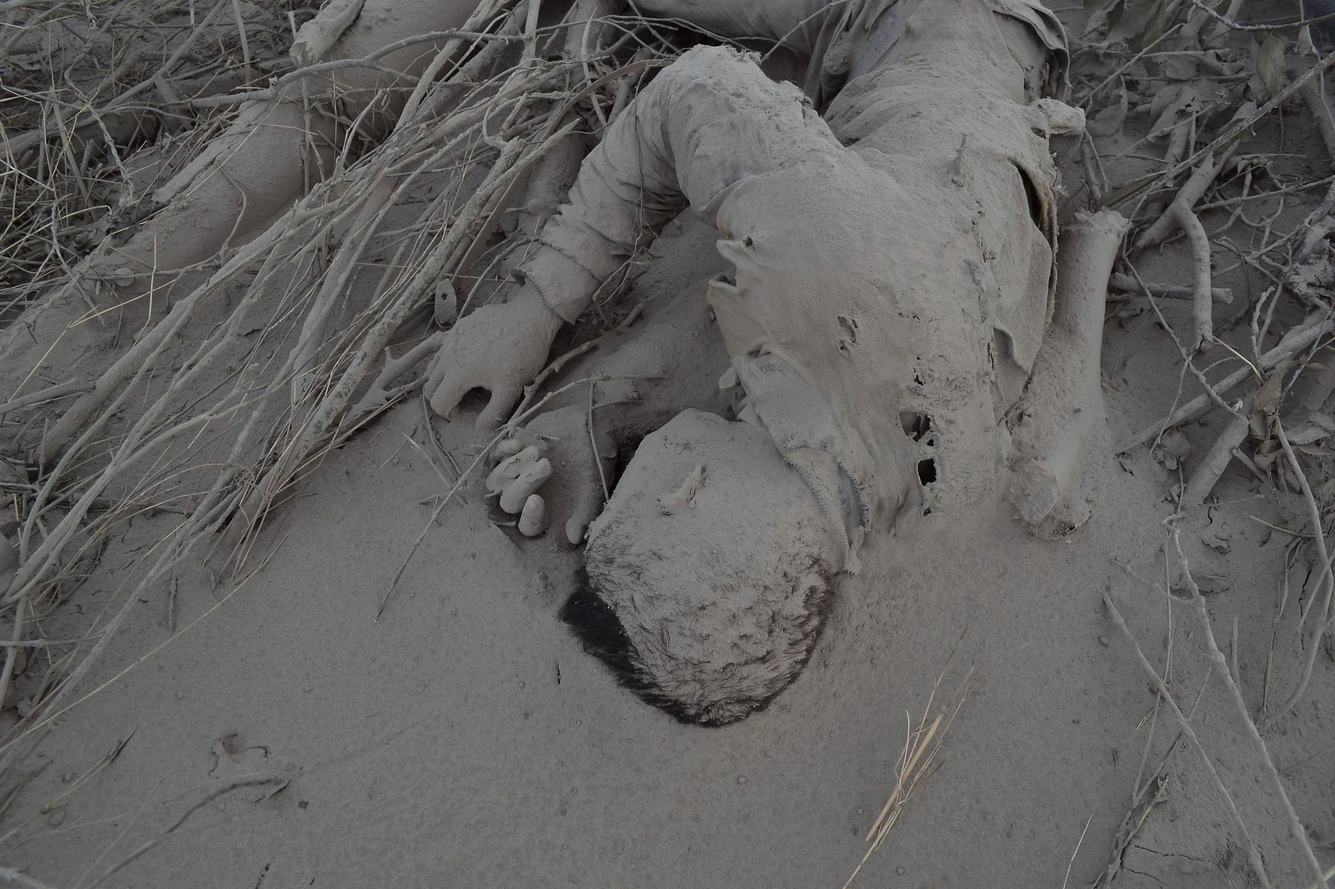Korban: (417, 0, 1073, 730)
